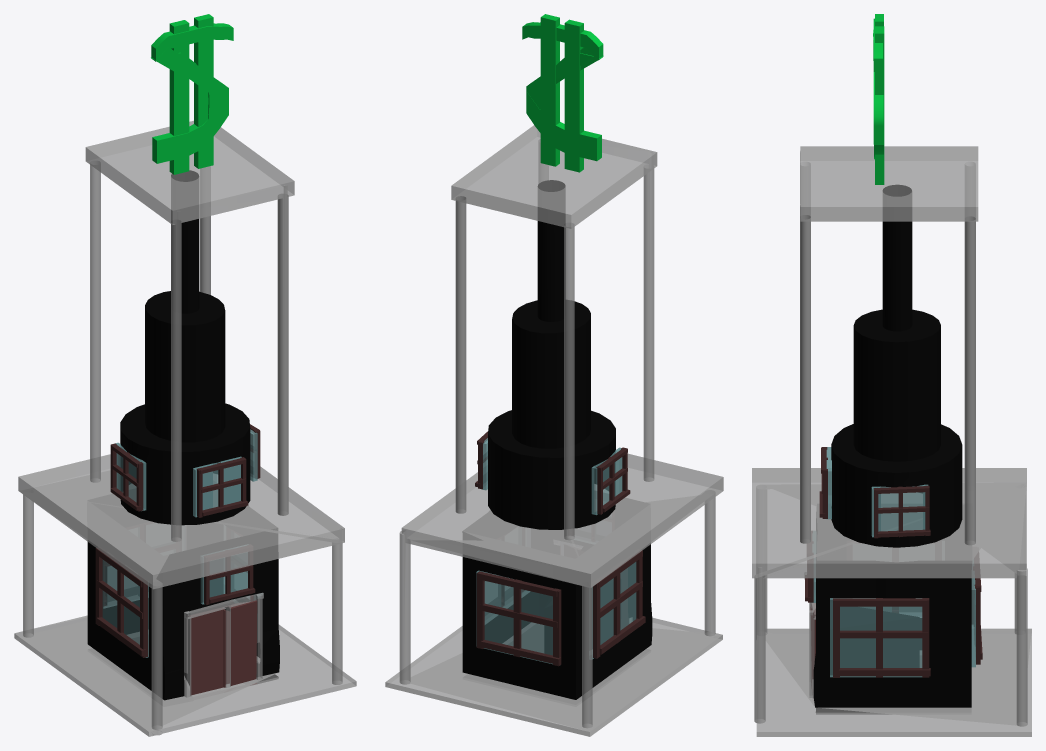
File: BuildingOne.fbx
The picture shows the model from 3 angles, left to right: view 1: azimuth 30°, elevation 25°; view 2: azimuth 150°, elevation 25°; view 3: azimuth 270°, elevation 25°; orthographic projection. The views are drawn at different scales.
Visible parts, largest first — view 1: pCube41; view 2: pCube41; view 3: pCube41.
Part boxes in pixels (left/top/right/bottom): pCube41: left=14, top=14, right=356, bottom=736; pCube41: left=385, top=14, right=723, bottom=736; pCube41: left=752, top=14, right=1031, bottom=736.
Bounding box in the file's own units: 43.79 × 131 × 50.09.
